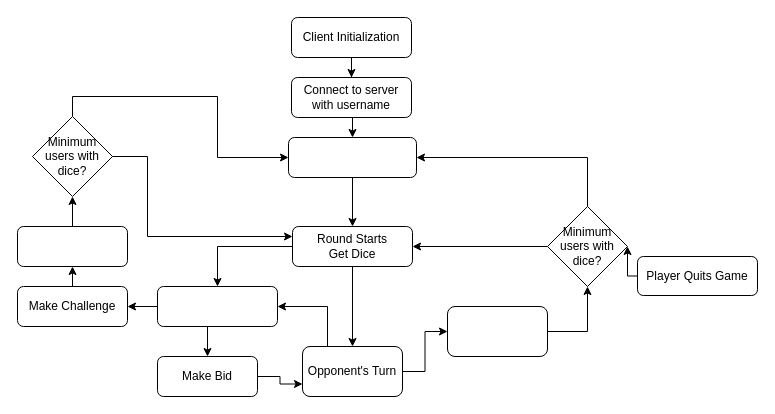
This 775x414 diagram has some shape labels left out. The shapes that lost their labels are listed below. From the top down, each one's centre as x and y in pixels, then its label:
(352,157): Wait In Lobby For Game Start
(72,246): Round Ends Dice lost
(217,306): Player's turn
(497,331): Round Ends
